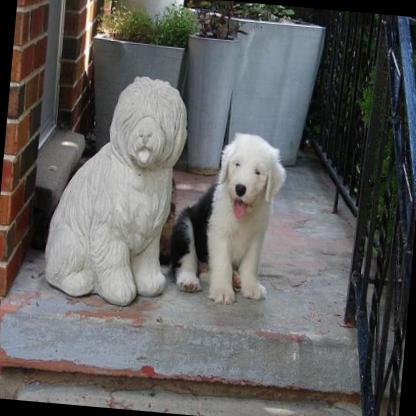Old_English_sheepdog: (165, 124, 289, 306)
